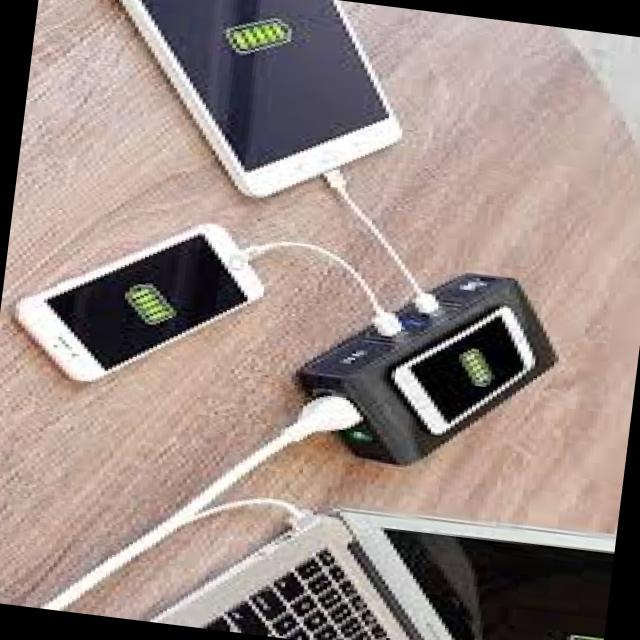power_bank: (292, 252, 570, 487)
